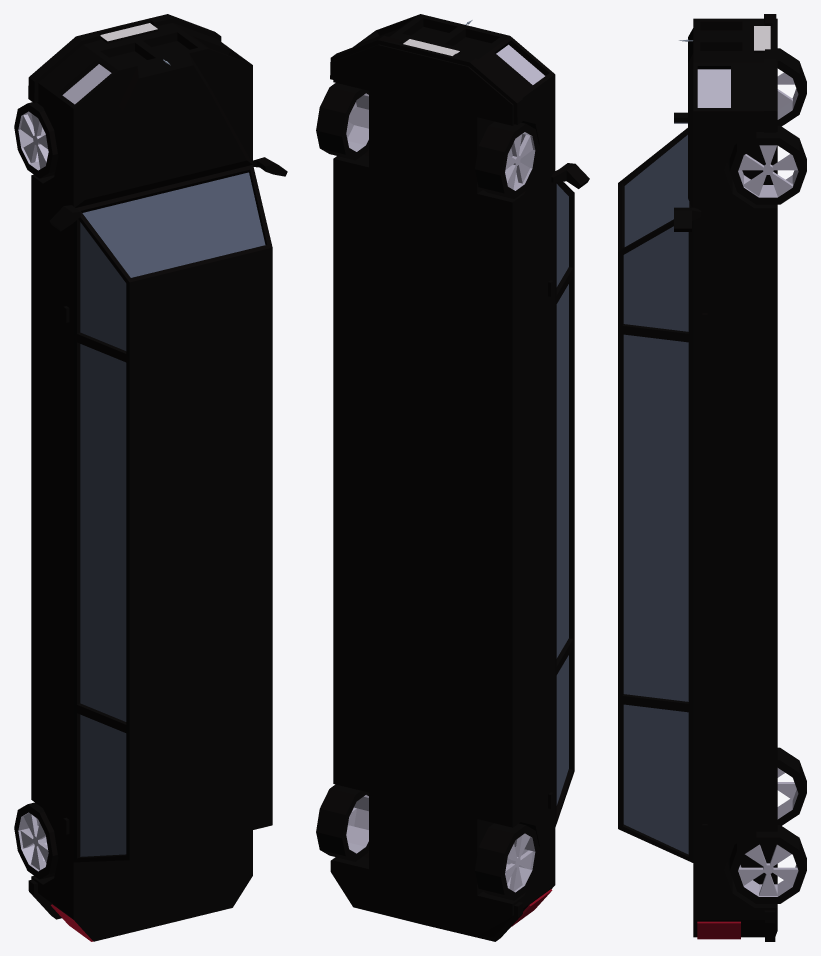
File: Limousine.glb
3 views of the same model, side by side, from view 1: azimuth 30°, elevation 25°; view 2: azimuth 150°, elevation 25°; view 3: azimuth 270°, elevation 25° (orthographic).
Visible parts, largest first — view 1: Mesh_0; view 2: Mesh_0; view 3: Mesh_0.
Part boxes in pixels (<box>): Mesh_0: <box>14,14,287,941</box>; Mesh_0: <box>316,14,589,941</box>; Mesh_0: <box>618,14,806,941</box>.
Size of the model in its own units: 2.81 by 10.24 by 2.01.
